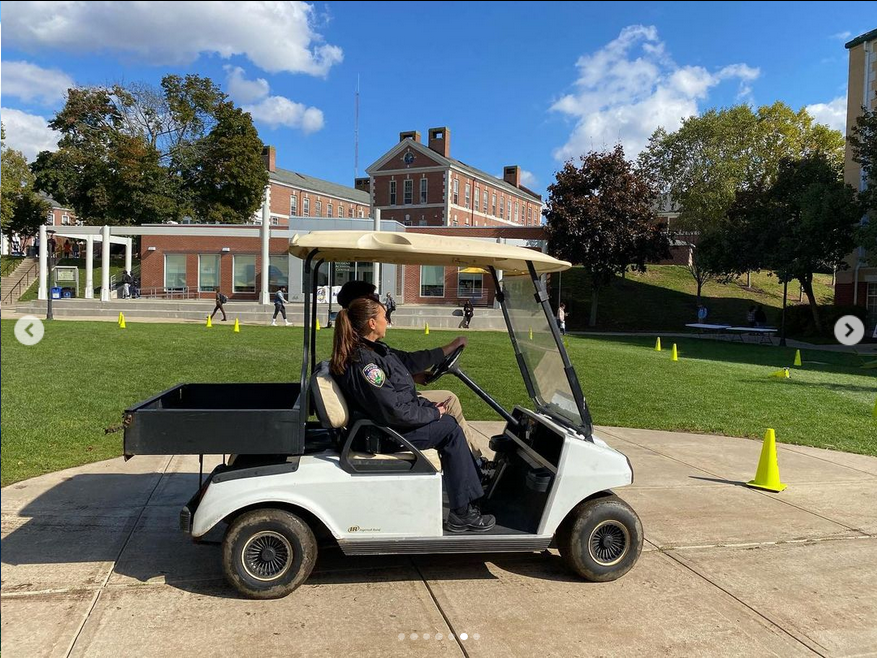Security: (295, 250, 566, 556)
